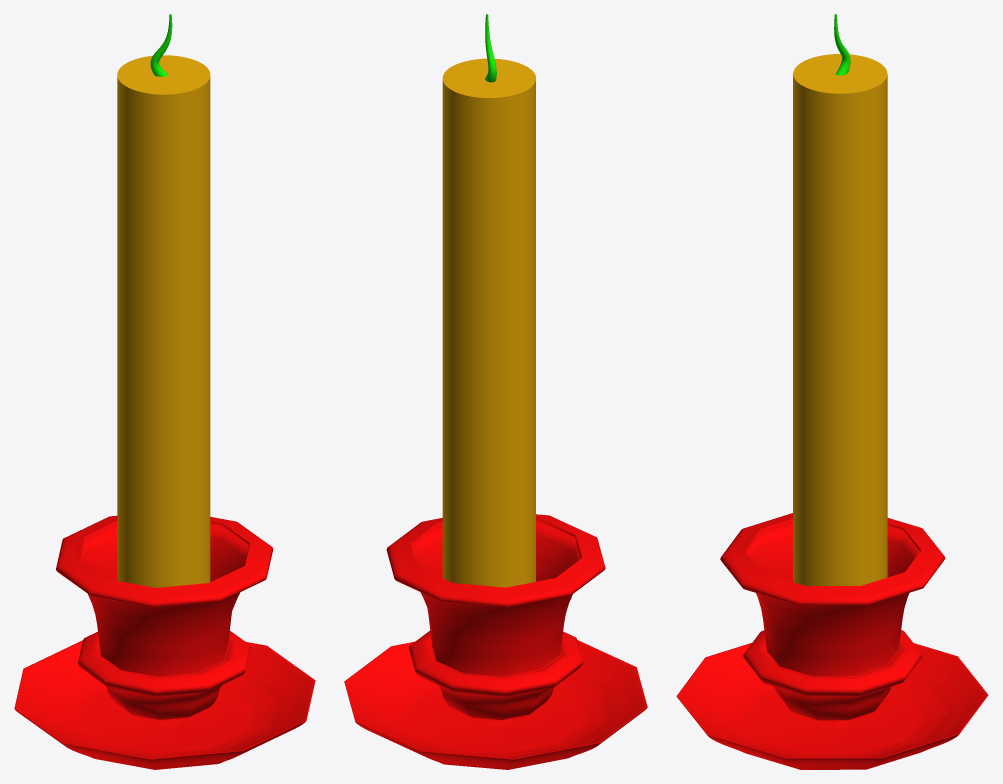
Rendered from SM_Candle01.FBX.
The picture shows the model from 3 angles, left to right: view 1: azimuth 30°, elevation 25°; view 2: azimuth 150°, elevation 25°; view 3: azimuth 270°, elevation 25°; orthographic projection.
Parts seen in each view (by area): view 1: Candle05; view 2: Candle05; view 3: Candle05.
Boxes of the visible parts, x1=… form: Candle05: x1=14, y1=14, x2=315, y2=769; Candle05: x1=344, y1=14, x2=647, y2=769; Candle05: x1=676, y1=14, x2=988, y2=769.
Bounding box in the file's own units: 9.56 × 26.14 × 10.02.
